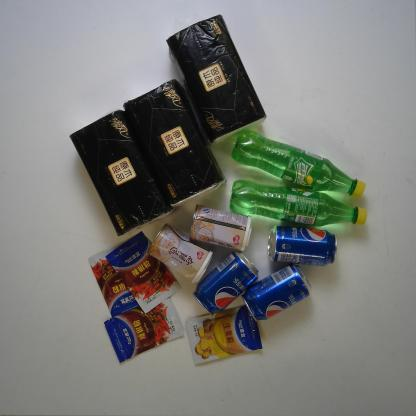Canned Food: (146, 222, 216, 287), (186, 203, 256, 255)
Drink: (225, 124, 367, 204), (227, 175, 371, 231), (239, 260, 315, 321), (192, 249, 258, 318), (266, 218, 340, 267)
Seasoner: (104, 226, 183, 318), (103, 292, 187, 369), (86, 237, 158, 318), (183, 303, 264, 366)
Tissue: (120, 76, 228, 214), (166, 10, 270, 152), (66, 108, 176, 239)
